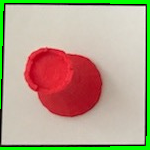Red Castle: (19, 44, 105, 119)
